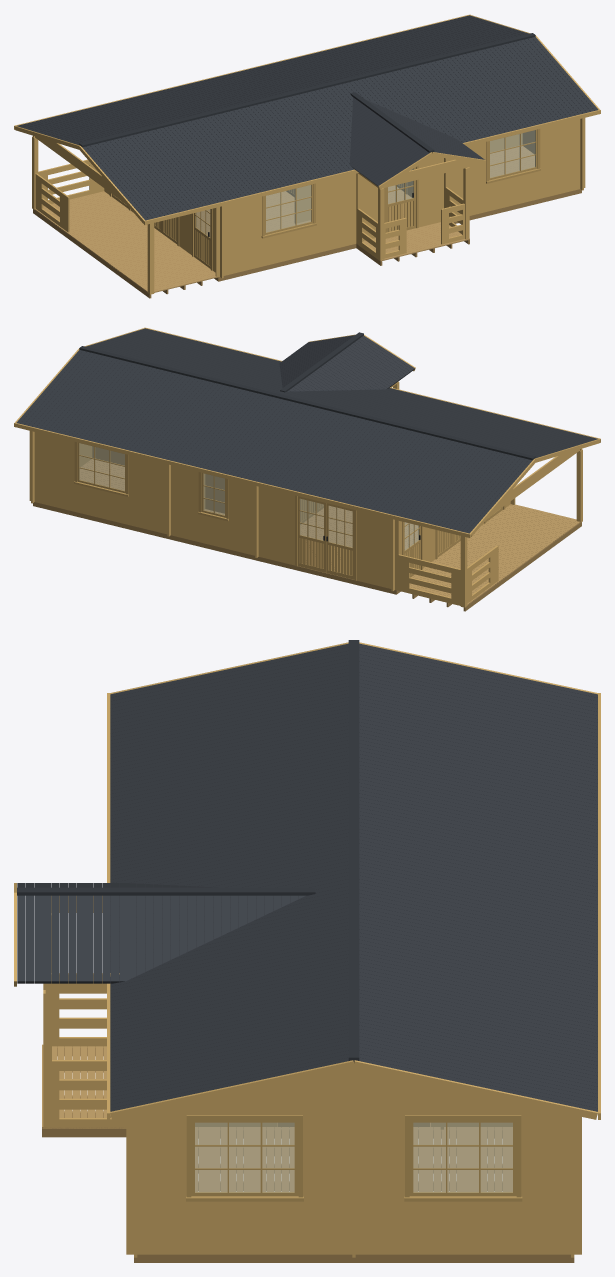
Rendered from роза_7_1_12_5_44_мм_крытая_терраса_тамбур.glb.
3 renders of one model, top to bottom at view 1: azimuth 30°, elevation 25°; view 2: azimuth 150°, elevation 25°; view 3: azimuth 270°, elevation 25°, orthographic. The views are drawn at different scales.
Parts seen in each view (by area): view 1: roof, walls, deck (×2), floor, house, object 139, object 152, object 126; view 2: roof, walls, deck, floor, house, object 206, object 192, object 174, object 219; view 3: roof, walls, floor, object 329, object 316, house, deck.
Part boxes in pixels (left/top/right/bottom): roof: left=14, top=14, right=600, bottom=224; walls: left=32, top=118, right=585, bottom=294; deck (×2): left=34, top=191, right=469, bottom=292; floor: left=196, top=146, right=534, bottom=236; house: left=33, top=189, right=581, bottom=298; object 139: left=266, top=185, right=310, bottom=232; object 152: left=490, top=130, right=535, bottom=177; object 126: left=388, top=169, right=413, bottom=203; roof: left=14, top=327, right=600, bottom=537; walls: left=29, top=381, right=582, bottom=607; deck: left=410, top=504, right=580, bottom=605; floor: left=80, top=459, right=418, bottom=572; house: left=33, top=502, right=581, bottom=611; object 206: left=79, top=443, right=124, bottom=490; object 192: left=329, top=506, right=352, bottom=547; object 174: left=300, top=499, right=323, bottom=540; object 219: left=204, top=474, right=224, bottom=515; roof: left=14, top=640, right=600, bottom=1119; walls: left=43, top=896, right=581, bottom=1257; floor: left=195, top=1123, right=512, bottom=1191; object 329: left=195, top=1123, right=294, bottom=1192; object 316: left=413, top=1123, right=512, bottom=1192; house: left=42, top=1048, right=574, bottom=1262; deck: left=42, top=1044, right=123, bottom=1128.
Bounding box in the file's own units: 12.98 × 3.1 × 7.66.
